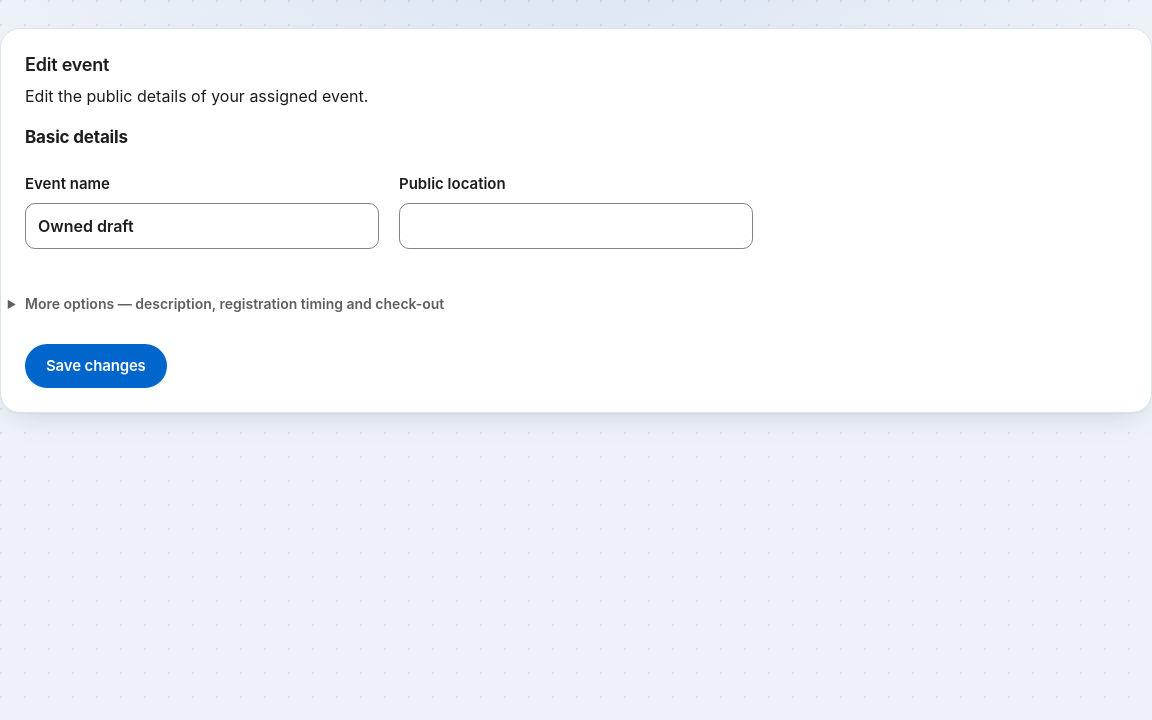
Scenario: V4 role-scoped event editing › renders exactly six editable fields for Admin, without forbidden controls
Replace the text in the field labelled "Event name" with "Edited". click: [202, 226]
box: [25, 203, 379, 249]
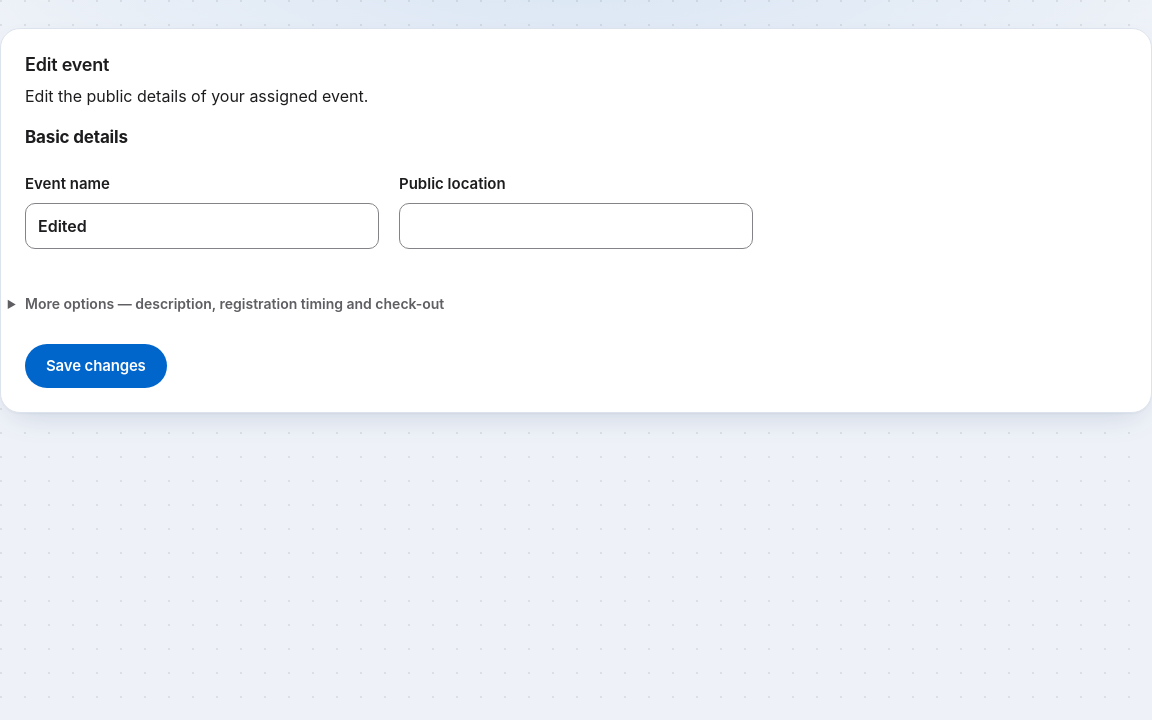
Click the button "Save changes". click: [96, 366]
box: [25, 344, 167, 388]
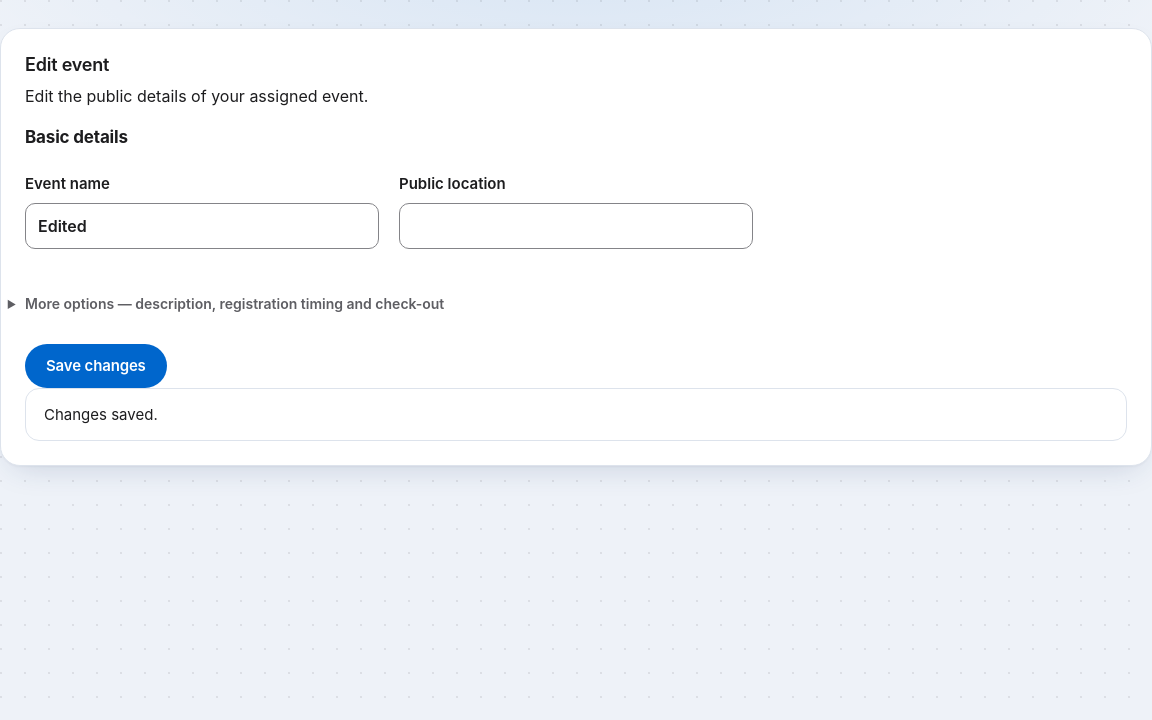
Expected: the text "Changes saved." is shown, [25, 388, 1127, 442]
